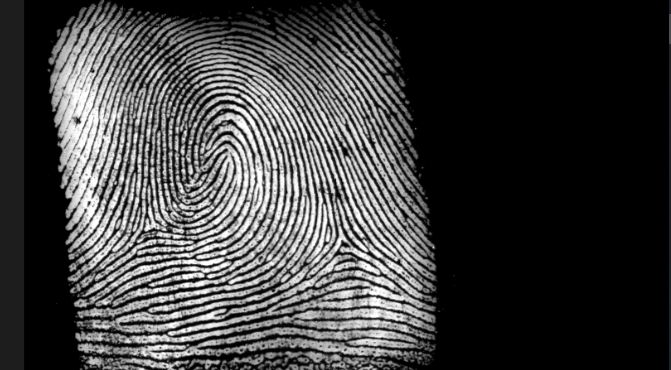deltas: (312, 222, 369, 266), (125, 209, 174, 248)
nucleo: (183, 132, 243, 189)
